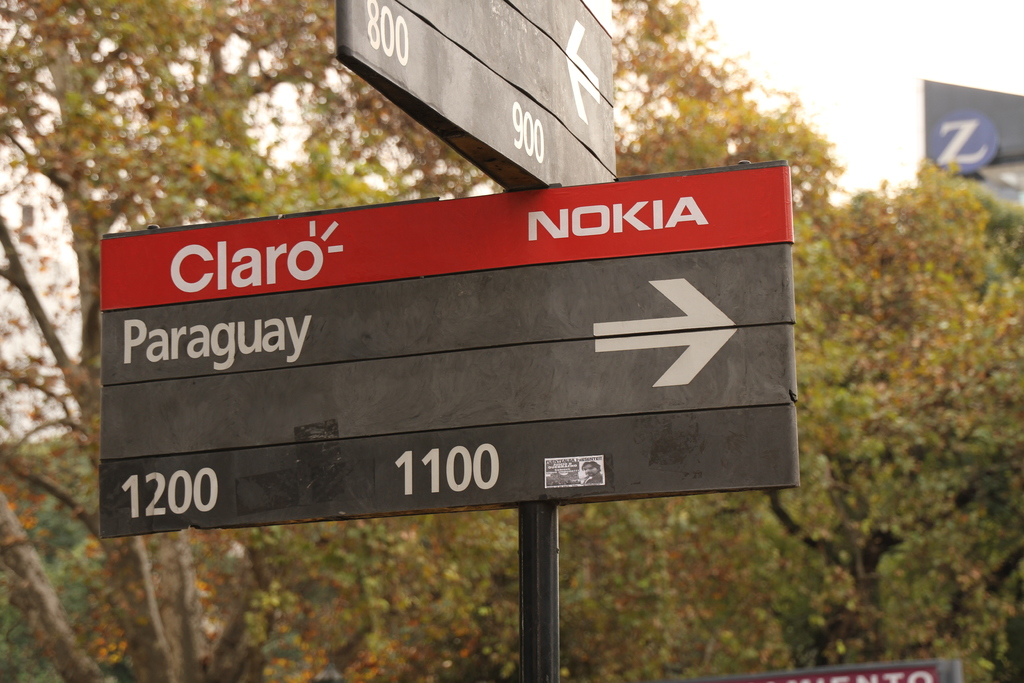Tree: (0, 0, 1023, 682), (759, 157, 1023, 654)
